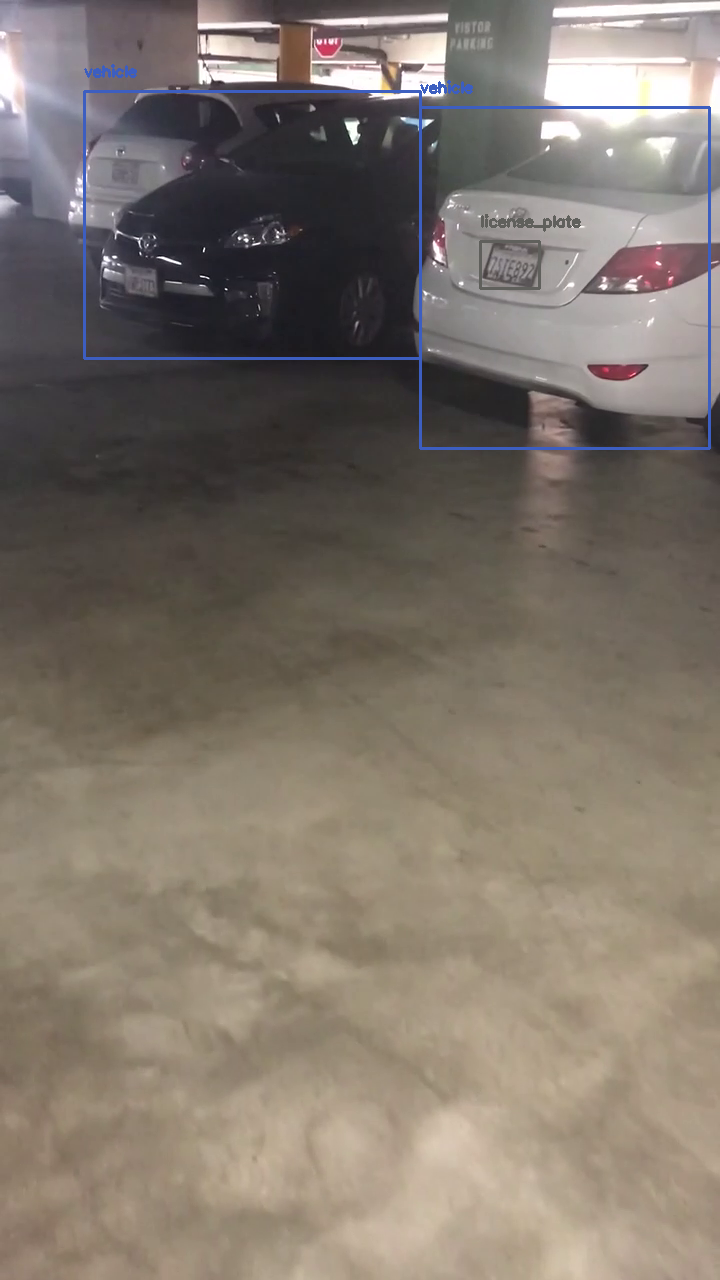license_plate: (480, 241, 539, 288)
vehicle: (420, 107, 709, 448), (84, 91, 420, 358)
